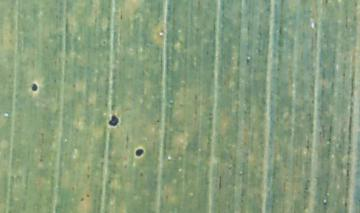tarspot: (108, 115, 120, 128), (134, 147, 144, 157), (31, 83, 38, 92)
